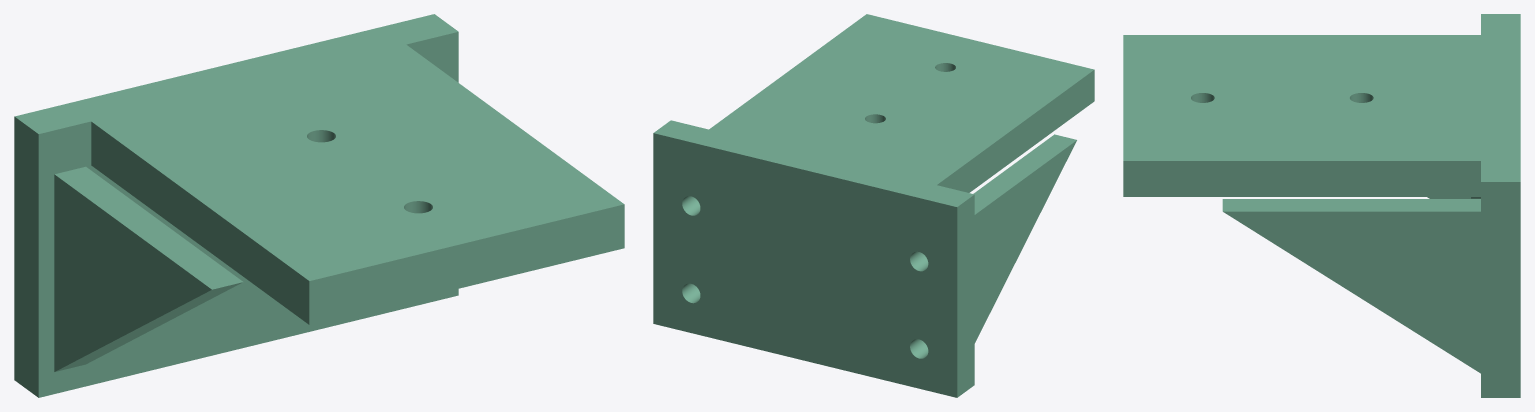
3 renders of one model, left to right at view 1: azimuth 30°, elevation 25°; view 2: azimuth 150°, elevation 25°; view 3: azimuth 270°, elevation 25°, orthographic. The views are drawn at different scales.
Parts seen in each view (by area): view 1: W17_camera_mast_foot; view 2: W17_camera_mast_foot; view 3: W17_camera_mast_foot.
Part boxes in pixels (box(x1,y1,x2,y2)): W17_camera_mast_foot: box(14, 14, 624, 397); W17_camera_mast_foot: box(653, 14, 1094, 397); W17_camera_mast_foot: box(1123, 14, 1520, 397).
Bounding box in the file's own units: 40 × 24 × 40.
